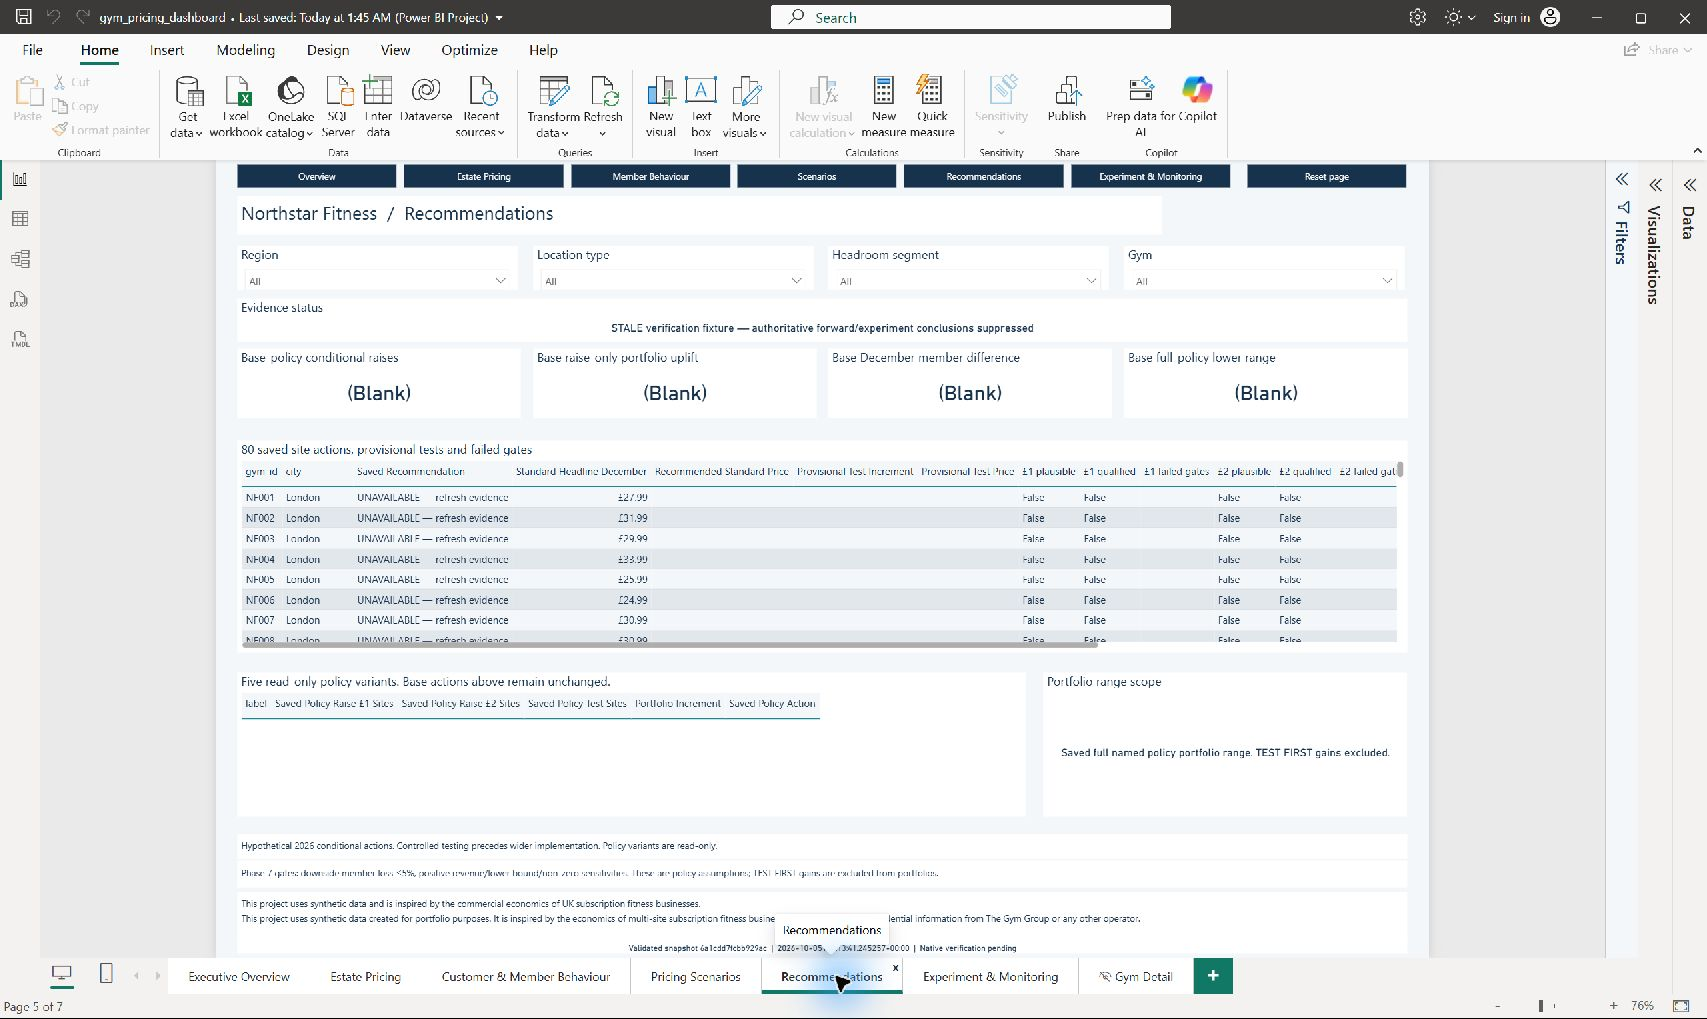

This screenshot's page, from the dashboard's own definition file:
{"tool":"powerbi","page":{"name":"Recommendations","canvas":[1600,1095],"ordinal":4},"visuals":[{"type":"card","title":"Evidence status","fields":{"Values":["CommercialMeasures.Evidence Status"]},"box":[28,184,1544,57],"z":0},{"type":"card","title":"Base-policy conditional raises","fields":{"Values":["CommercialMeasures.Conditional Raise Sites"]},"box":[28,250,374,91],"z":1},{"type":"card","title":"Base raise-only portfolio uplift","fields":{"Values":["CommercialMeasures.Base Portfolio Increment"]},"box":[418,250,374,91],"z":2},{"type":"card","title":"Base December member difference","fields":{"Values":["CommercialMeasures.Base Portfolio Member Difference"]},"box":[808,250,374,91],"z":3},{"type":"card","title":"Base full-policy lower range","fields":{"Values":["CommercialMeasures.Base Portfolio Increment lower"]},"box":[1198,250,374,91],"z":4},{"type":"tableEx","title":"80 saved site actions, provisional tests and failed gates","fields":{"Values":["DimGym.gym_id","DimGym.city","CommercialMeasures.Saved Recommendation","CommercialMeasures.Standard Headline December","CommercialMeasures.Recommended Standard Price","CommercialMeasures.Provisional Test Increment","CommercialMeasures.Provisional Test Price","CommercialMeasures.£1 plausible","CommercialMeasures.£1 qualified","CommercialMeasures.£1 failed gates","CommercialMeasures.£2 plausible","CommercialMeasures.£2 qualified"]},"box":[28,371,1544,279],"z":5},{"type":"tableEx","title":"Five read-only policy variants. Base actions above remain unchanged.","fields":{"Values":["DimPolicy.label","CommercialMeasures.Saved Policy Raise £1 Sites","CommercialMeasures.Saved Policy Raise £2 Sites","CommercialMeasures.Saved Policy Test Sites","CommercialMeasures.Portfolio Increment","CommercialMeasures.Saved Policy Action"]},"box":[28,677,1040,190],"z":6},{"type":"card","title":"Portfolio range scope","fields":{"Values":["CommercialMeasures.Portfolio Uncertainty Scope"]},"box":[1092,677,480,190],"z":7},{"type":"slicer","title":"Region","fields":{"Values":["DimGym.region"]},"box":[28,114,370,58],"z":8},{"type":"slicer","title":"Location type","fields":{"Values":["DimGym.location_type"]},"box":[418,114,370,58],"z":9},{"type":"slicer","title":"Headroom segment","fields":{"Values":["DimGym.segment"]},"box":[808,114,370,58],"z":10},{"type":"slicer","title":"Gym","fields":{"Values":["DimGym.gym_id"]},"box":[1198,114,370,58],"z":11},{"type":"textbox","box":[28,47,1220,51],"z":12},{"type":"textbox","box":[28,889,1544,33],"z":13},{"type":"card","title":"Snapshot ID. Native acceptance is recorded in powerbi/NATIVE_VERIFICATION.md.","fields":{"Values":["CommercialMeasures.Snapshot Version"]},"box":[28,1026,1544,56],"z":14},{"type":"textbox","box":[28,925,1544,35],"z":15},{"type":"textbox","box":[28,966,1544,62],"z":16},{"type":"actionButton","title":"Overview","box":[28,7,210,30],"z":17},{"type":"actionButton","title":"Estate Pricing","box":[248,7,210,30],"z":18},{"type":"actionButton","title":"Member Behaviour","box":[468,7,210,30],"z":19},{"type":"actionButton","title":"Scenarios","box":[688,7,210,30],"z":20},{"type":"actionButton","title":"Recommendations","box":[908,7,210,30],"z":21},{"type":"actionButton","title":"Experiment & Monitoring","box":[1128,7,210,30],"z":22},{"type":"actionButton","title":"Reset page","box":[1360,7,210,30],"z":23}]}

Visuals, with their boxes on the page's 1600x1095 design canvas (x1, y1, x2, y2). These are canvas units, not pixel positions in the 1707x1019 screenshot, which may show the page scaled, cropped or inside an application window:
"Evidence status" card: x1=28 y1=184 x2=1572 y2=241
"Base-policy conditional raises" card: x1=28 y1=250 x2=402 y2=341
"Base raise-only portfolio uplift" card: x1=418 y1=250 x2=792 y2=341
"Base December member difference" card: x1=808 y1=250 x2=1182 y2=341
"Base full-policy lower range" card: x1=1198 y1=250 x2=1572 y2=341
"80 saved site actions, provisional tests and failed gates" tableEx: x1=28 y1=371 x2=1572 y2=650
"Five read-only policy variants. Base actions above remain unchanged." tableEx: x1=28 y1=677 x2=1068 y2=867
"Portfolio range scope" card: x1=1092 y1=677 x2=1572 y2=867
"Region" slicer: x1=28 y1=114 x2=398 y2=172
"Location type" slicer: x1=418 y1=114 x2=788 y2=172
"Headroom segment" slicer: x1=808 y1=114 x2=1178 y2=172
"Gym" slicer: x1=1198 y1=114 x2=1568 y2=172
textbox: x1=28 y1=47 x2=1248 y2=98
textbox: x1=28 y1=889 x2=1572 y2=922
"Snapshot ID. Native acceptance is recorded in powerbi/NATIVE_VERIFICATION.md." card: x1=28 y1=1026 x2=1572 y2=1082
textbox: x1=28 y1=925 x2=1572 y2=960
textbox: x1=28 y1=966 x2=1572 y2=1028
"Overview" actionButton: x1=28 y1=7 x2=238 y2=37
"Estate Pricing" actionButton: x1=248 y1=7 x2=458 y2=37
"Member Behaviour" actionButton: x1=468 y1=7 x2=678 y2=37
"Scenarios" actionButton: x1=688 y1=7 x2=898 y2=37
"Recommendations" actionButton: x1=908 y1=7 x2=1118 y2=37
"Experiment & Monitoring" actionButton: x1=1128 y1=7 x2=1338 y2=37
"Reset page" actionButton: x1=1360 y1=7 x2=1570 y2=37
